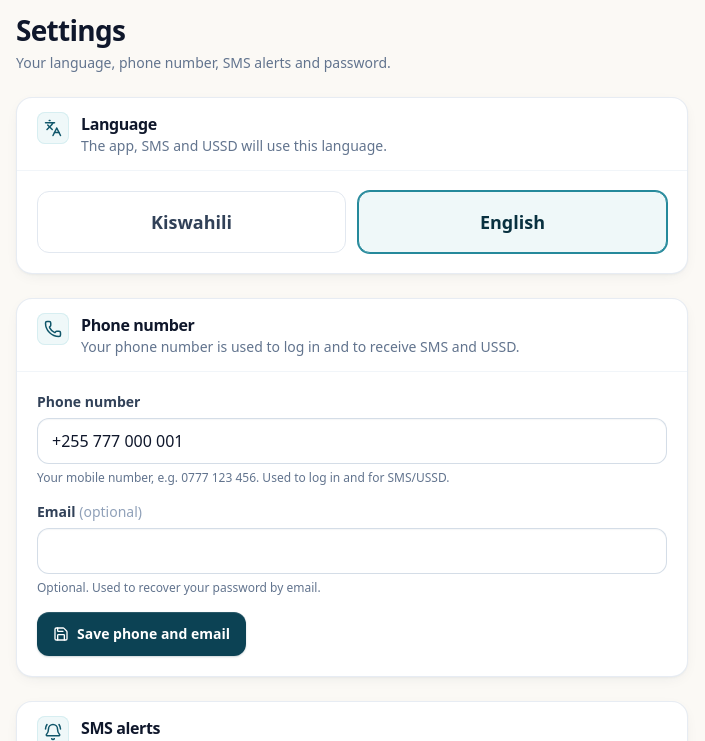
Test: language choice updates the UI and the profile
The width and height of the screenshot is (705, 741).
Click the radio button labelled "Kiswahili": coordinates (192, 222) [37,191,346,253]
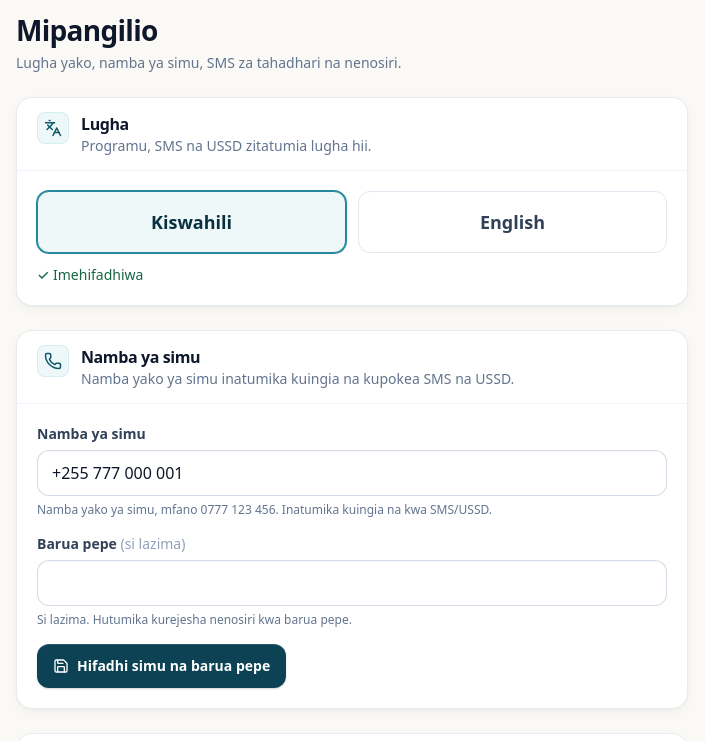
Expected: the heading "Mipangilio" is shown, [16,12,158,49]
